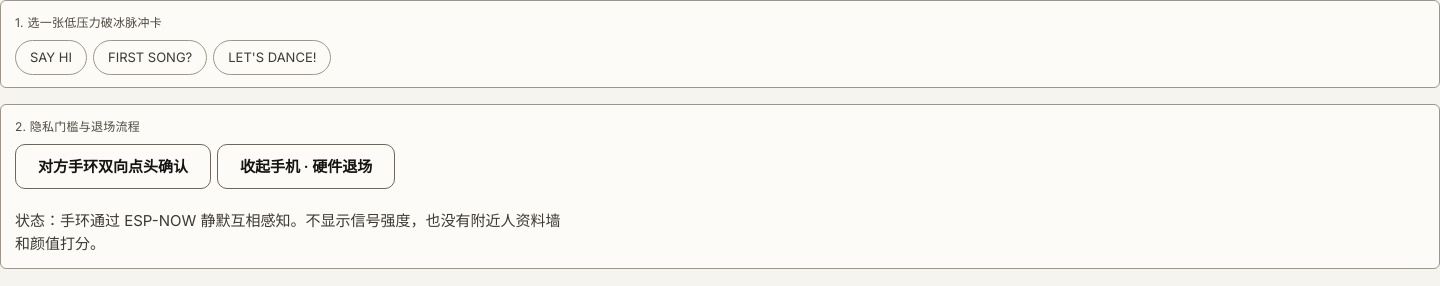
Scenario: CaseSimulatorFrame & Phase 3.6A Simulators › OntheBeatHandshakeSim preserves anonymity until mutual nod and then withdraws device quietly
The image size is (1440, 286).
Click the button "FIRST SONG?": [150, 58] box [93,40,207,75]
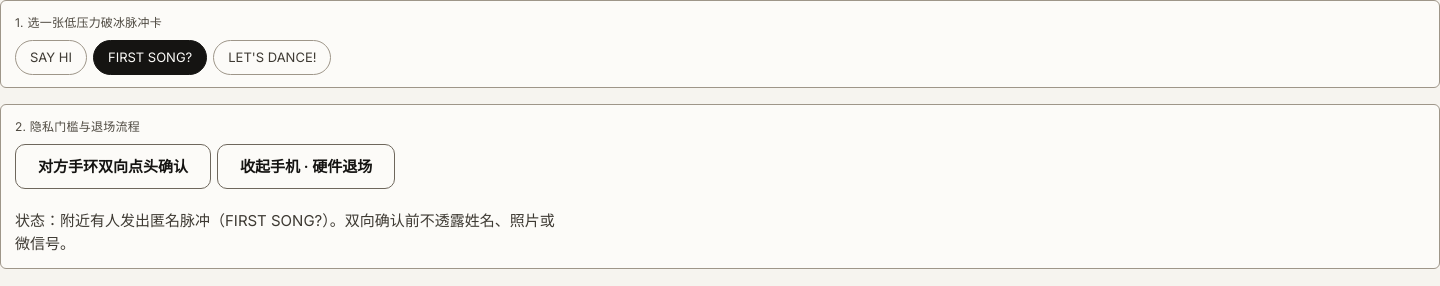
Expected: the text "吧台左侧音响柱旁" is not shown
Result: the text "状态：附近有人发出匿名脉冲（FIRST SONG?）。双向确认前不透露姓名、照片或微信号。" is shown at [15,209,564,256]
Click the button "对方手环双向点头确认": [113, 167] box [15,144,211,189]
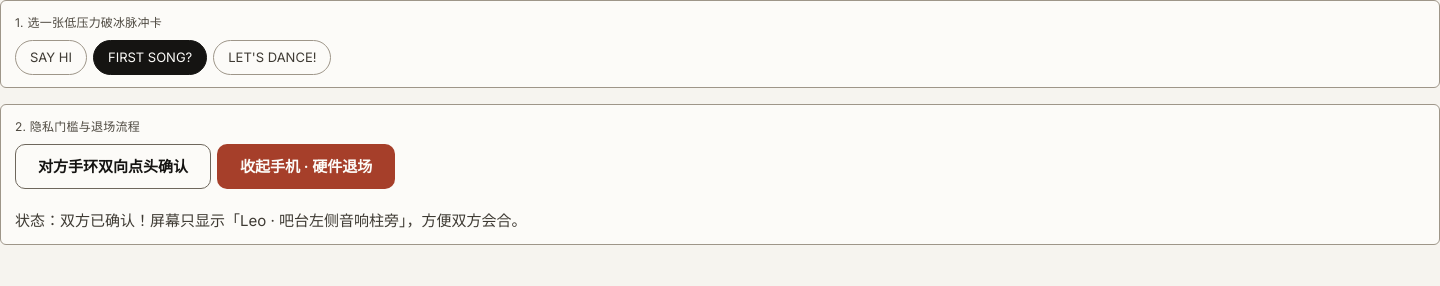
Result: the text "状态：双方已确认！屏幕只显示「Leo · 吧台左侧音响柱旁」，方便双方会合。" is shown at [15,209,564,232]
Click the button "收起手机 · 硬件退场": [306, 167] box [217,144,395,189]
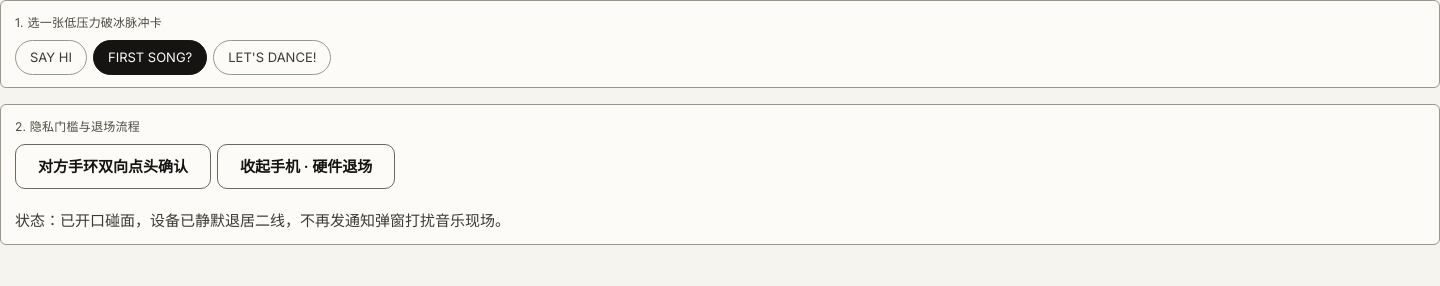
Result: the text "状态：已开口碰面，设备已静默退居二线，不再发通知弹窗打扰音乐现场。" is shown at [15,209,564,232]
